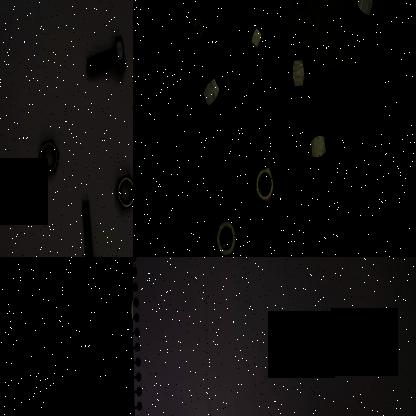Bolts: (78, 34, 133, 86), (77, 194, 99, 257)
NUTS: (330, 74, 382, 115), (31, 125, 61, 179), (243, 12, 267, 66), (286, 46, 308, 104), (108, 167, 133, 215), (187, 0, 209, 54), (341, 0, 377, 33), (249, 160, 276, 202), (298, 130, 332, 163), (198, 73, 226, 113), (212, 213, 237, 257), (124, 282, 133, 345)
